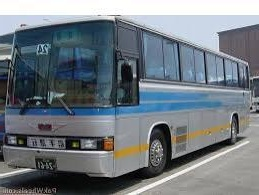bus: (0, 18, 256, 180)
